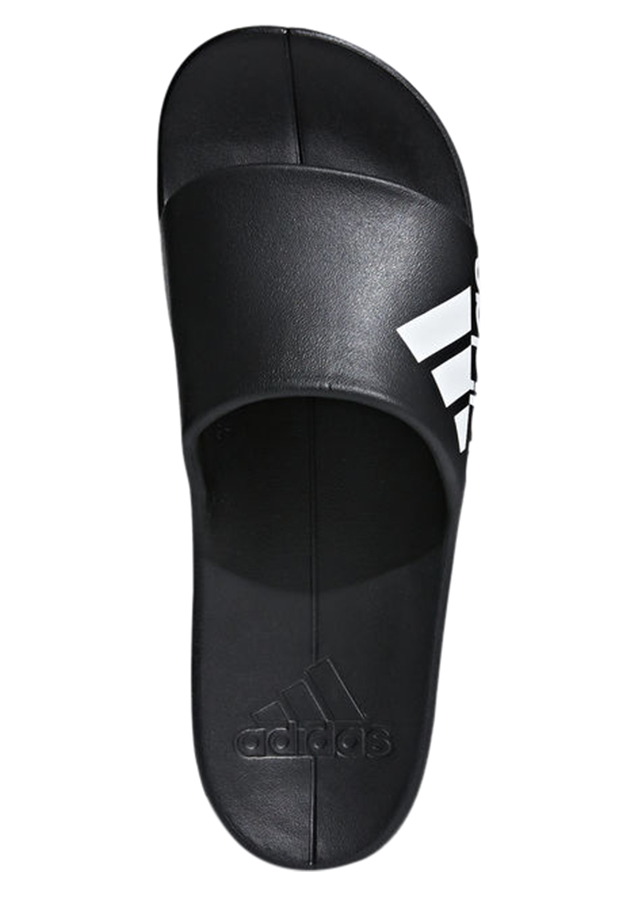Adidas: (231, 653, 398, 776)
